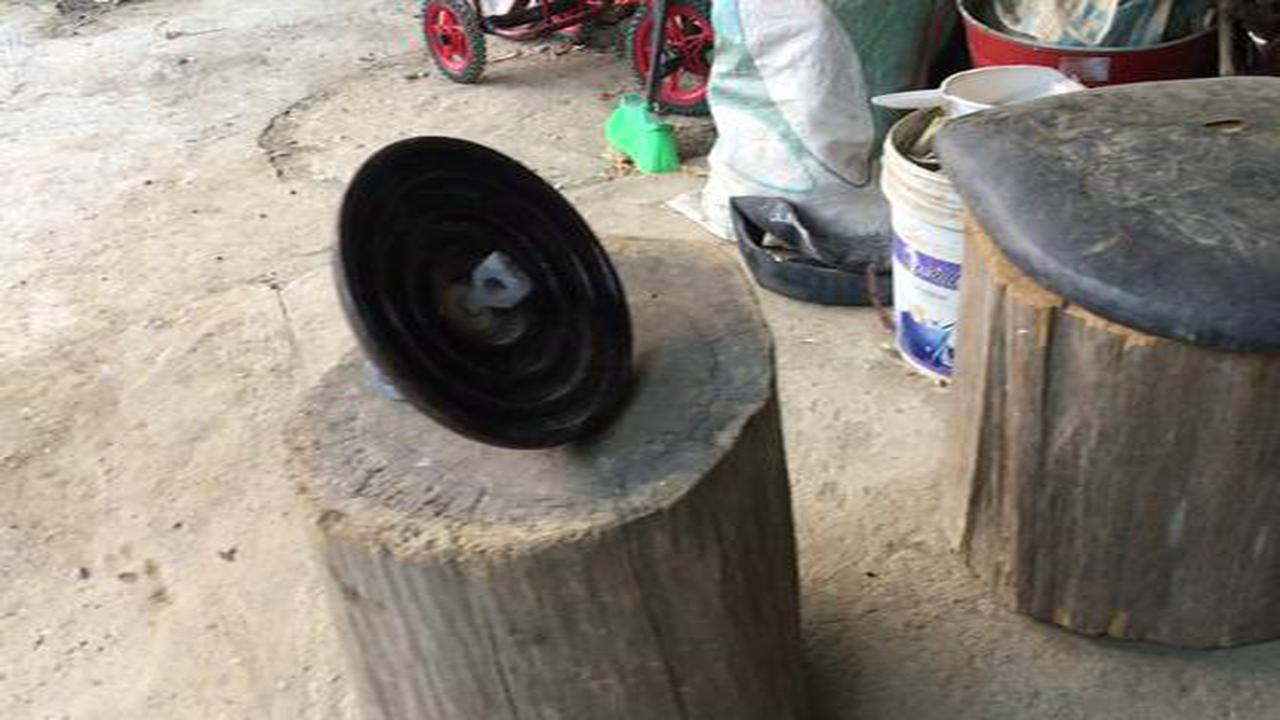insulator_disc: (330, 131, 651, 457)
